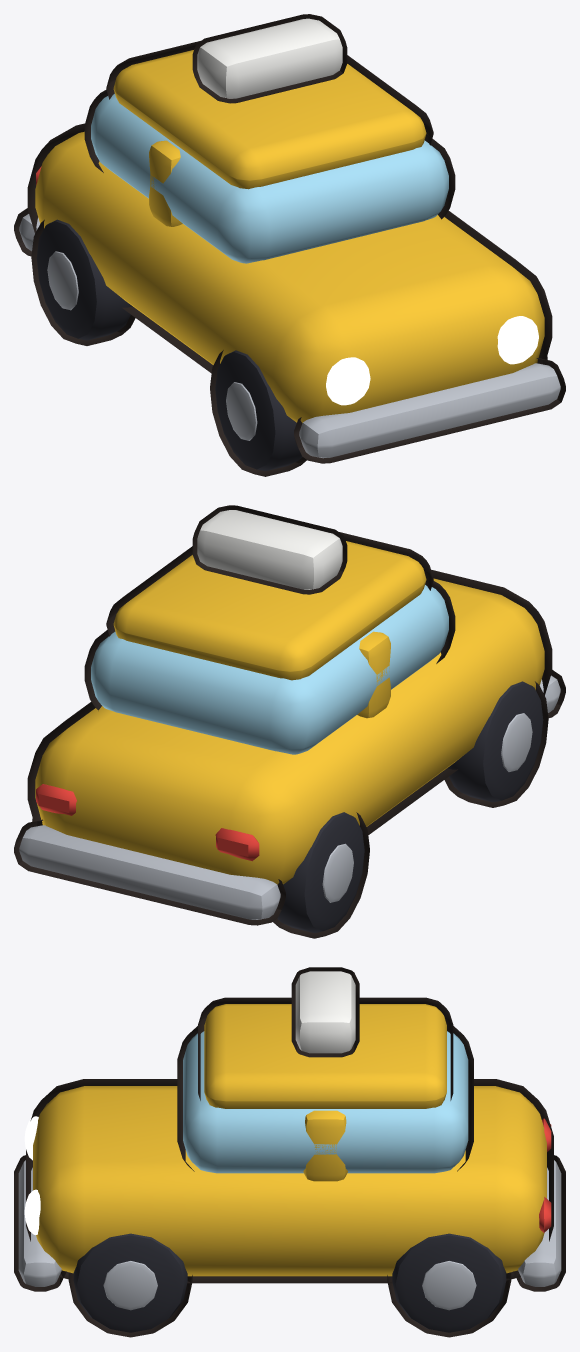
Rendered from Car_Taxi.fbx.
3 views of the same model, one above another, from view 1: azimuth 30°, elevation 25°; view 2: azimuth 150°, elevation 25°; view 3: azimuth 270°, elevation 25° (orthographic). The views are drawn at different scales.
Parts seen in each view (by area): view 1: VH_Car_Taxi_Yellow, VH_Car_Taxi_Window, VH_Car_Taxi_MetalLight, VH_Car_Taxi_Outline, VH_Car_Taxi_Black, VH_Car_Taxi_White, VH_Car_Taxi_LampWarm; view 2: VH_Car_Taxi_Yellow, VH_Car_Taxi_Window, VH_Car_Taxi_MetalLight, VH_Car_Taxi_Outline, VH_Car_Taxi_Black, VH_Car_Taxi_White, VH_Car_Taxi_Red; view 3: VH_Car_Taxi_Yellow, VH_Car_Taxi_Window, VH_Car_Taxi_Black, VH_Car_Taxi_Outline, VH_Car_Taxi_MetalLight, VH_Car_Taxi_White, VH_Car_Taxi_LampWarm, VH_Car_Taxi_Red.
Boxes of the visible parts, <box> form: VH_Car_Taxi_Yellow: <box>35,50,544,422</box>; VH_Car_Taxi_Window: <box>91,93,448,263</box>; VH_Car_Taxi_MetalLight: <box>19,214,560,458</box>; VH_Car_Taxi_Outline: <box>14,14,565,476</box>; VH_Car_Taxi_Black: <box>36,219,302,471</box>; VH_Car_Taxi_White: <box>197,18,342,98</box>; VH_Car_Taxi_LampWarm: <box>326,316,538,405</box>; VH_Car_Taxi_Yellow: <box>35,541,544,884</box>; VH_Car_Taxi_Window: <box>91,585,448,754</box>; VH_Car_Taxi_MetalLight: <box>19,675,560,919</box>; VH_Car_Taxi_Outline: <box>14,505,565,938</box>; VH_Car_Taxi_Black: <box>277,681,543,932</box>; VH_Car_Taxi_White: <box>197,510,342,589</box>; VH_Car_Taxi_Red: <box>36,784,259,861</box>; VH_Car_Taxi_Yellow: <box>33,1004,546,1276</box>; VH_Car_Taxi_Window: <box>183,1031,468,1173</box>; VH_Car_Taxi_Black: <box>73,1233,506,1332</box>; VH_Car_Taxi_Outline: <box>14,967,565,1337</box>; VH_Car_Taxi_MetalLight: <box>18,1160,561,1310</box>; VH_Car_Taxi_White: <box>295,971,355,1053</box>; VH_Car_Taxi_LampWarm: <box>24,1116,40,1234</box>; VH_Car_Taxi_Red: <box>539,1118,551,1232</box>.
Bounding box in the file's own units: 2.05 × 2.26 × 3.87.
